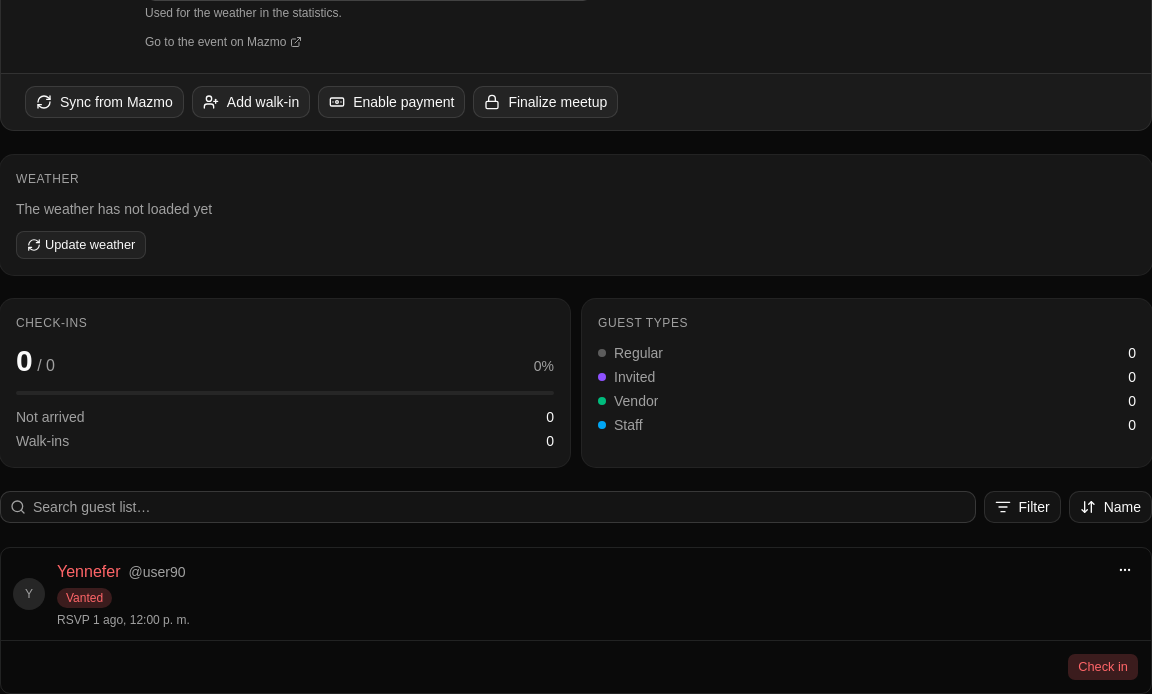
Test: MeetupDetailPage vanted check-in dialog › shows why the guest was vanted
(page scrolled)
Click the button "Check in": {"x": 1103, "y": 666} x1=1067 y1=652 x2=1139 y2=680
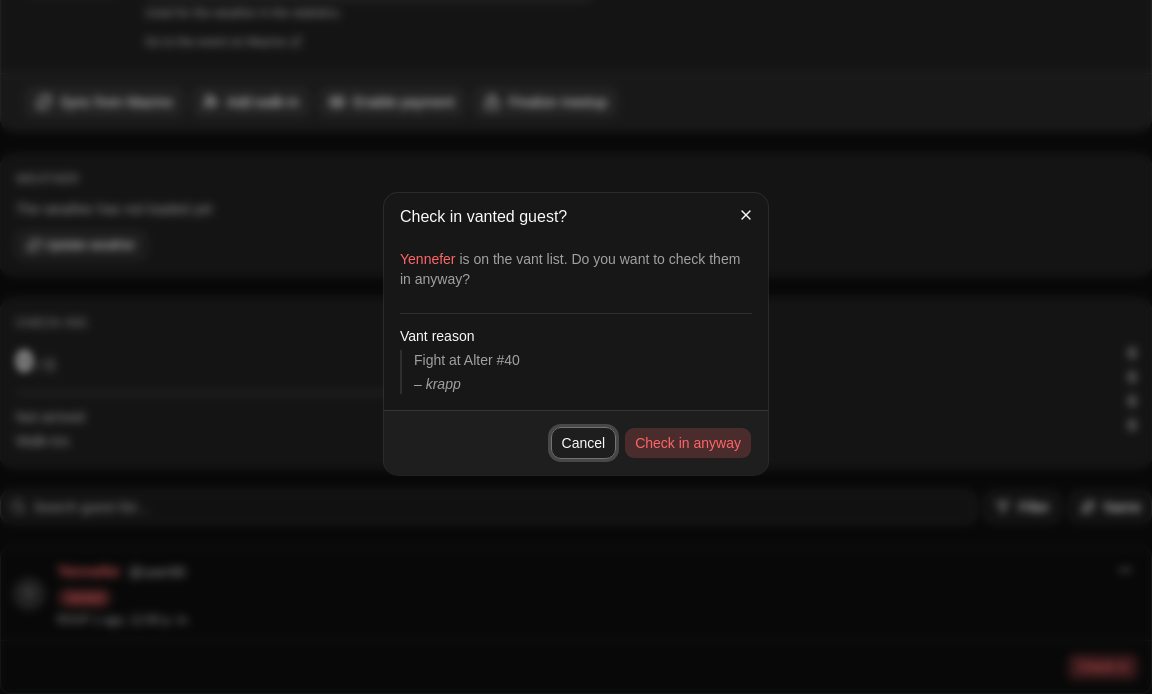
Now the heading "Vant reason" is shown, box x1=400 y1=328 x2=474 y2=344
Now the text "Fight at Alter #40" is shown, box x1=414 y1=352 x2=520 y2=368
Now the button "Check in anyway" is enabled, box x1=624 y1=427 x2=752 y2=459
